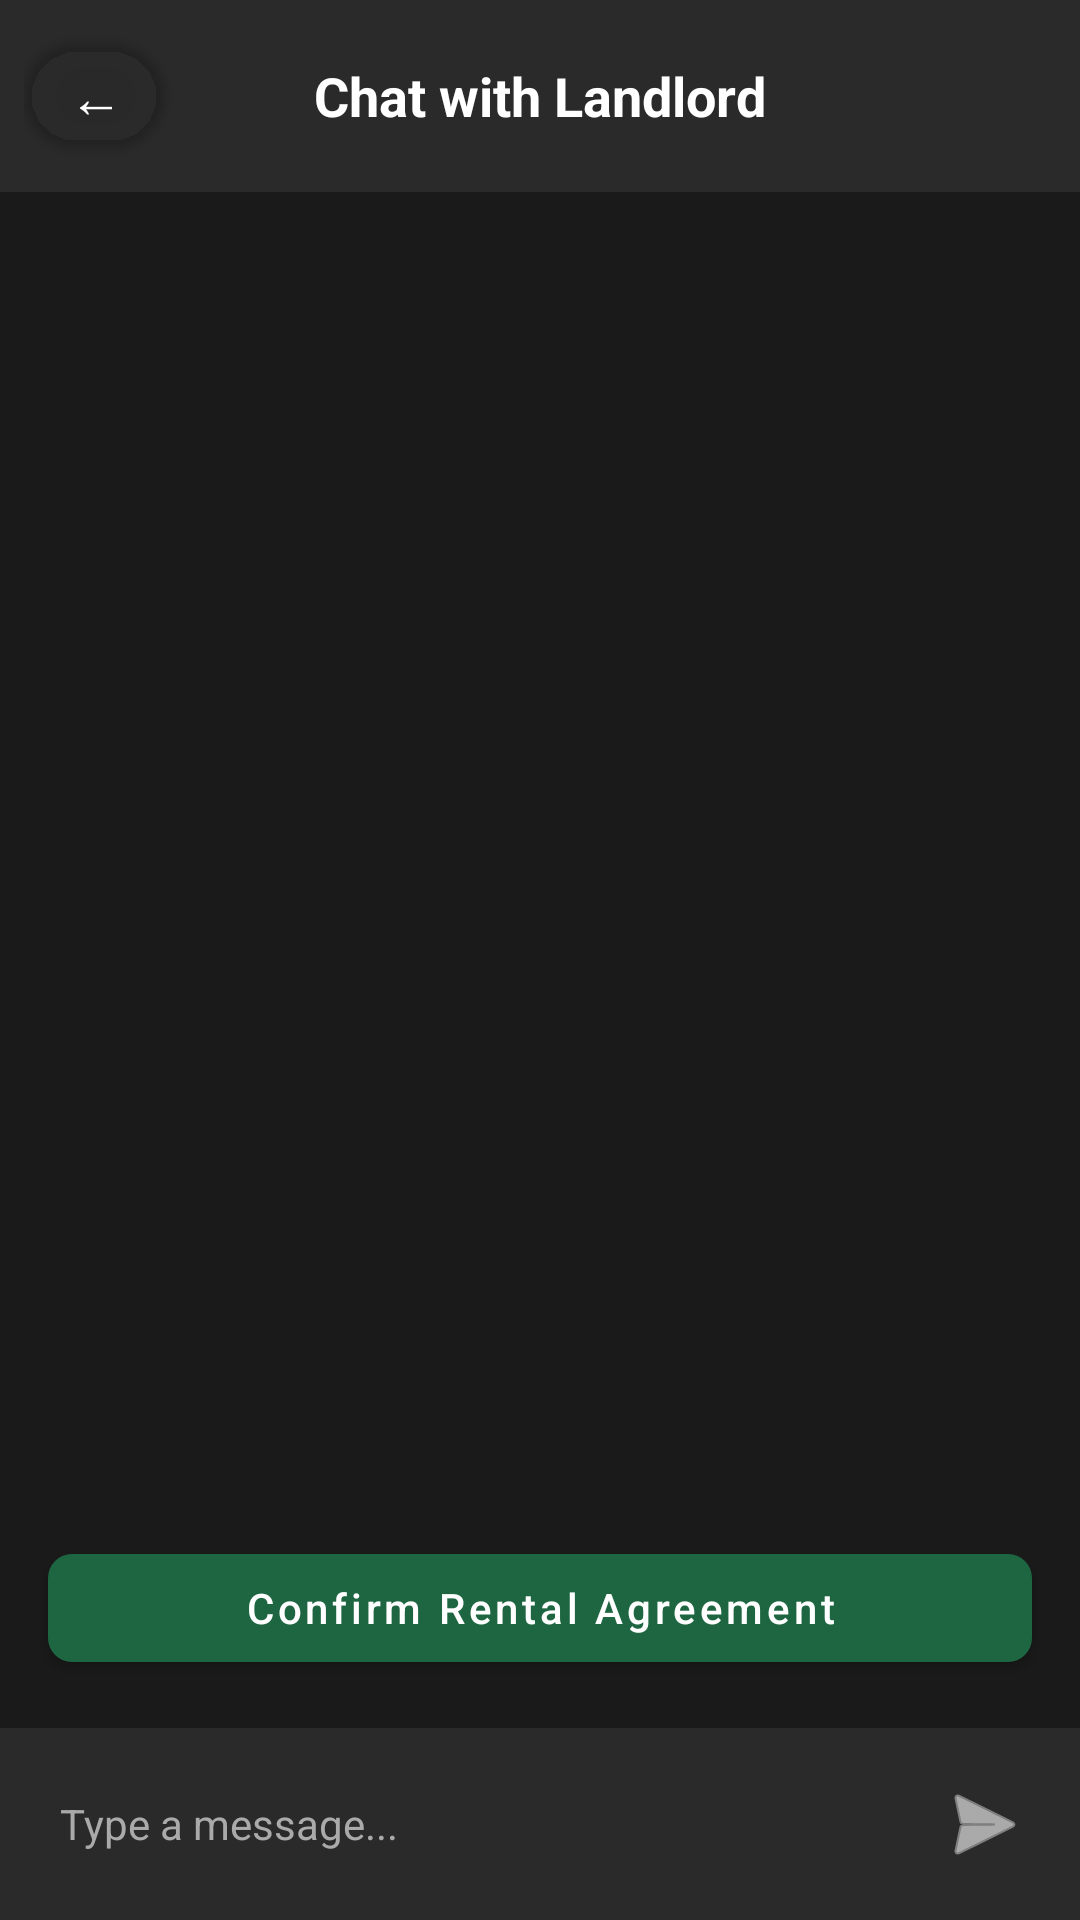

Named icons in this screenshot (1080px×1920px) and their bounding boxes, [left=x1, top=y1, right=x2, bottom=y2]:
send: [left=954, top=1794, right=1016, bottom=1855]
